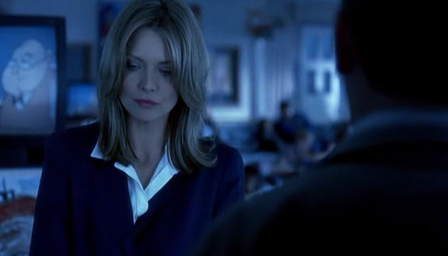face: (119, 40, 182, 122)
mcu: (1, 1, 448, 256)
ots: (197, 1, 448, 256)
person: (28, 1, 247, 256)
